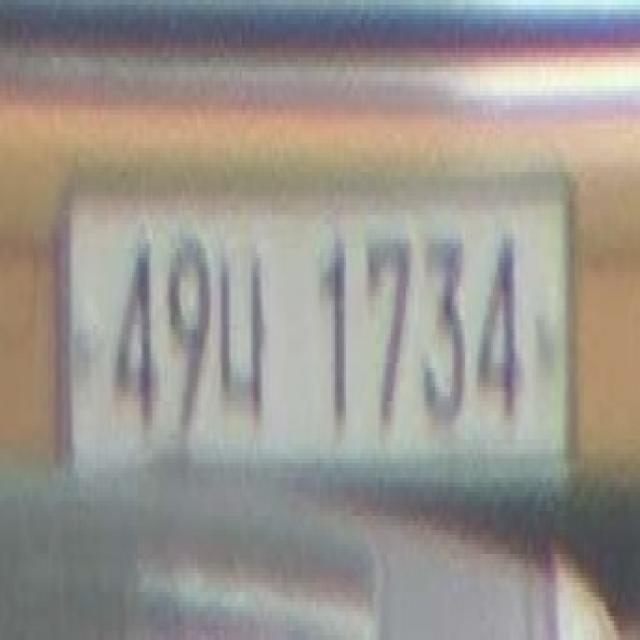1: (312, 227, 357, 457)
3: (416, 218, 470, 446)
4: (108, 217, 164, 453), (474, 226, 528, 448)
7: (364, 222, 412, 456)
9: (167, 224, 210, 453)
license_plate: (45, 143, 593, 513)
na: (214, 222, 274, 446)
